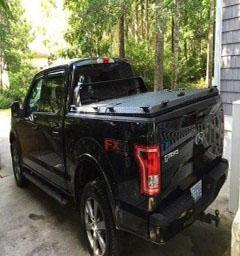car: (4, 52, 228, 253)
